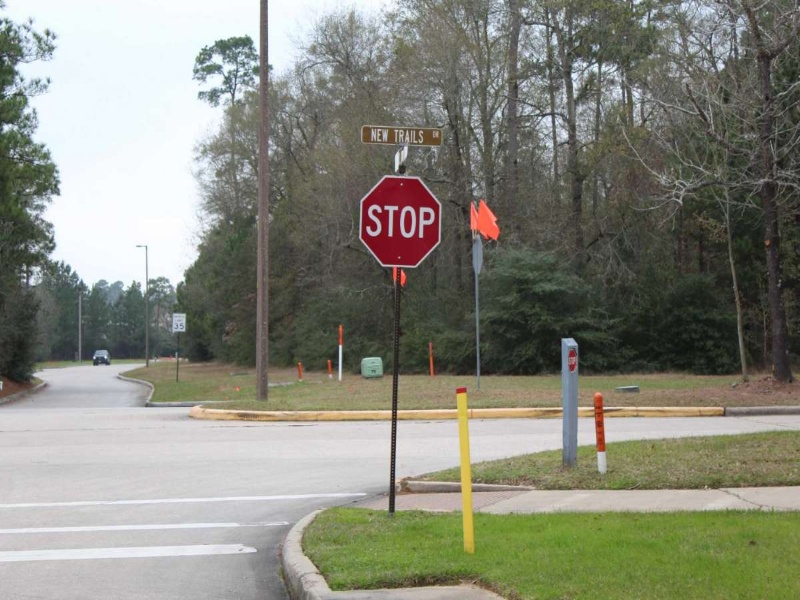stop sign: (353, 170, 446, 272)
